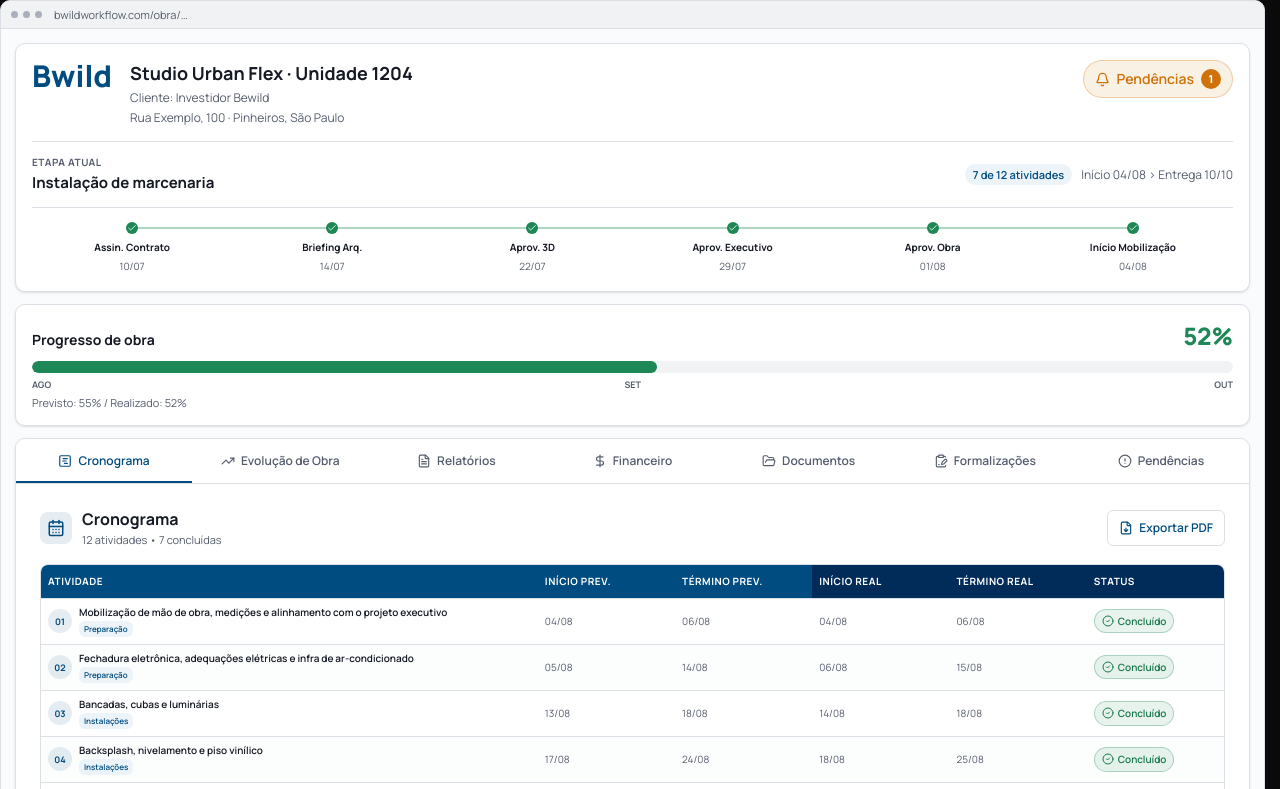
Test: WorkflowPortalReplica — download do gráfico falhou › a aba abre com a moldura vazia e o resto do painel no lugar
Click the tab "Evolução de Obra".
click(280, 461)  # box left=192, top=439, right=368, bottom=483
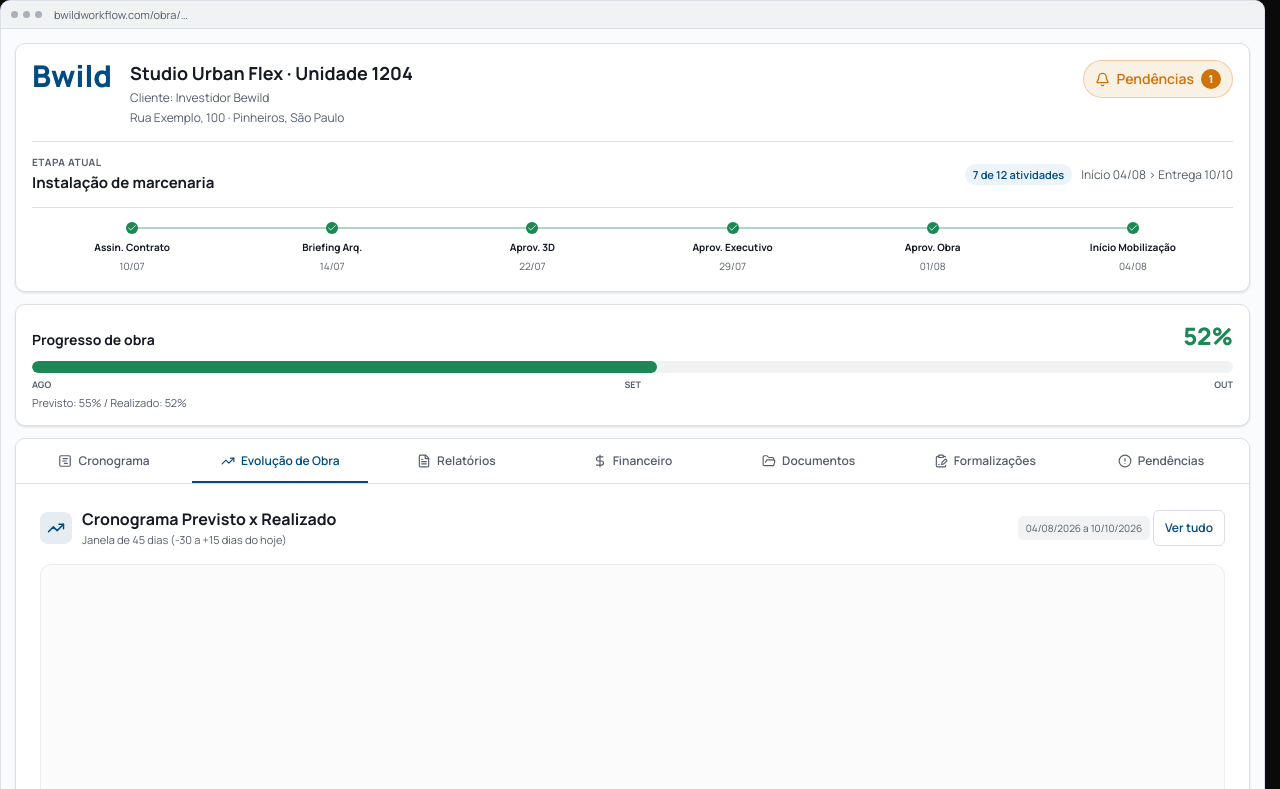
Expected: the heading "Cronograma Previsto x Realizado" is shown, left=82, top=508, right=336, bottom=531
